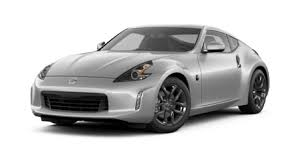Nissan: (34, 30, 254, 127)
